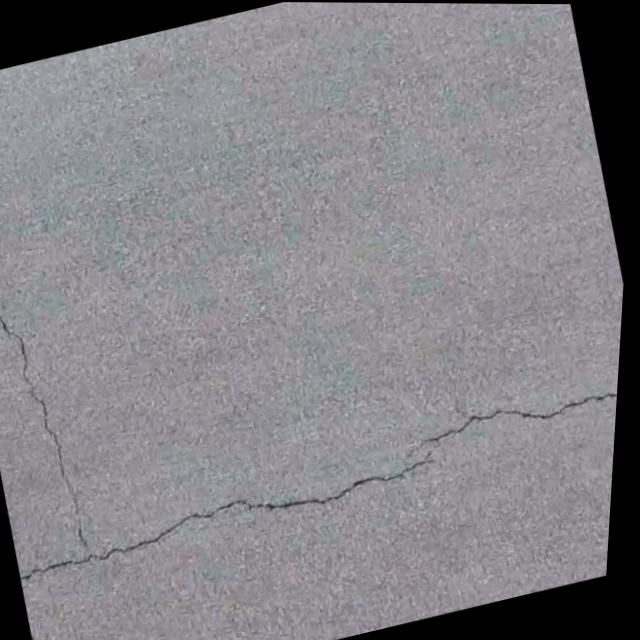Crack: (12, 362, 623, 589), (0, 94, 163, 589)
